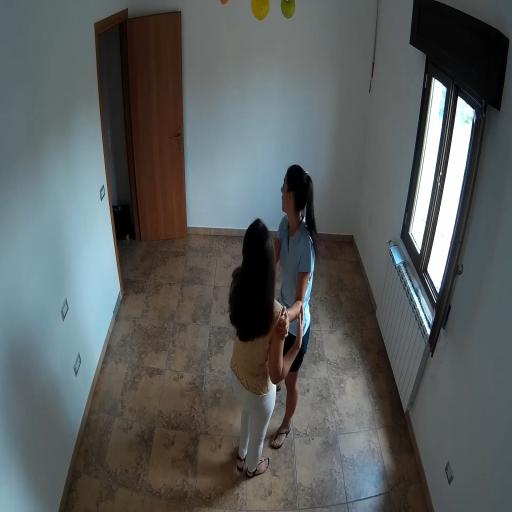nao-violencia: (209, 148, 326, 492)
